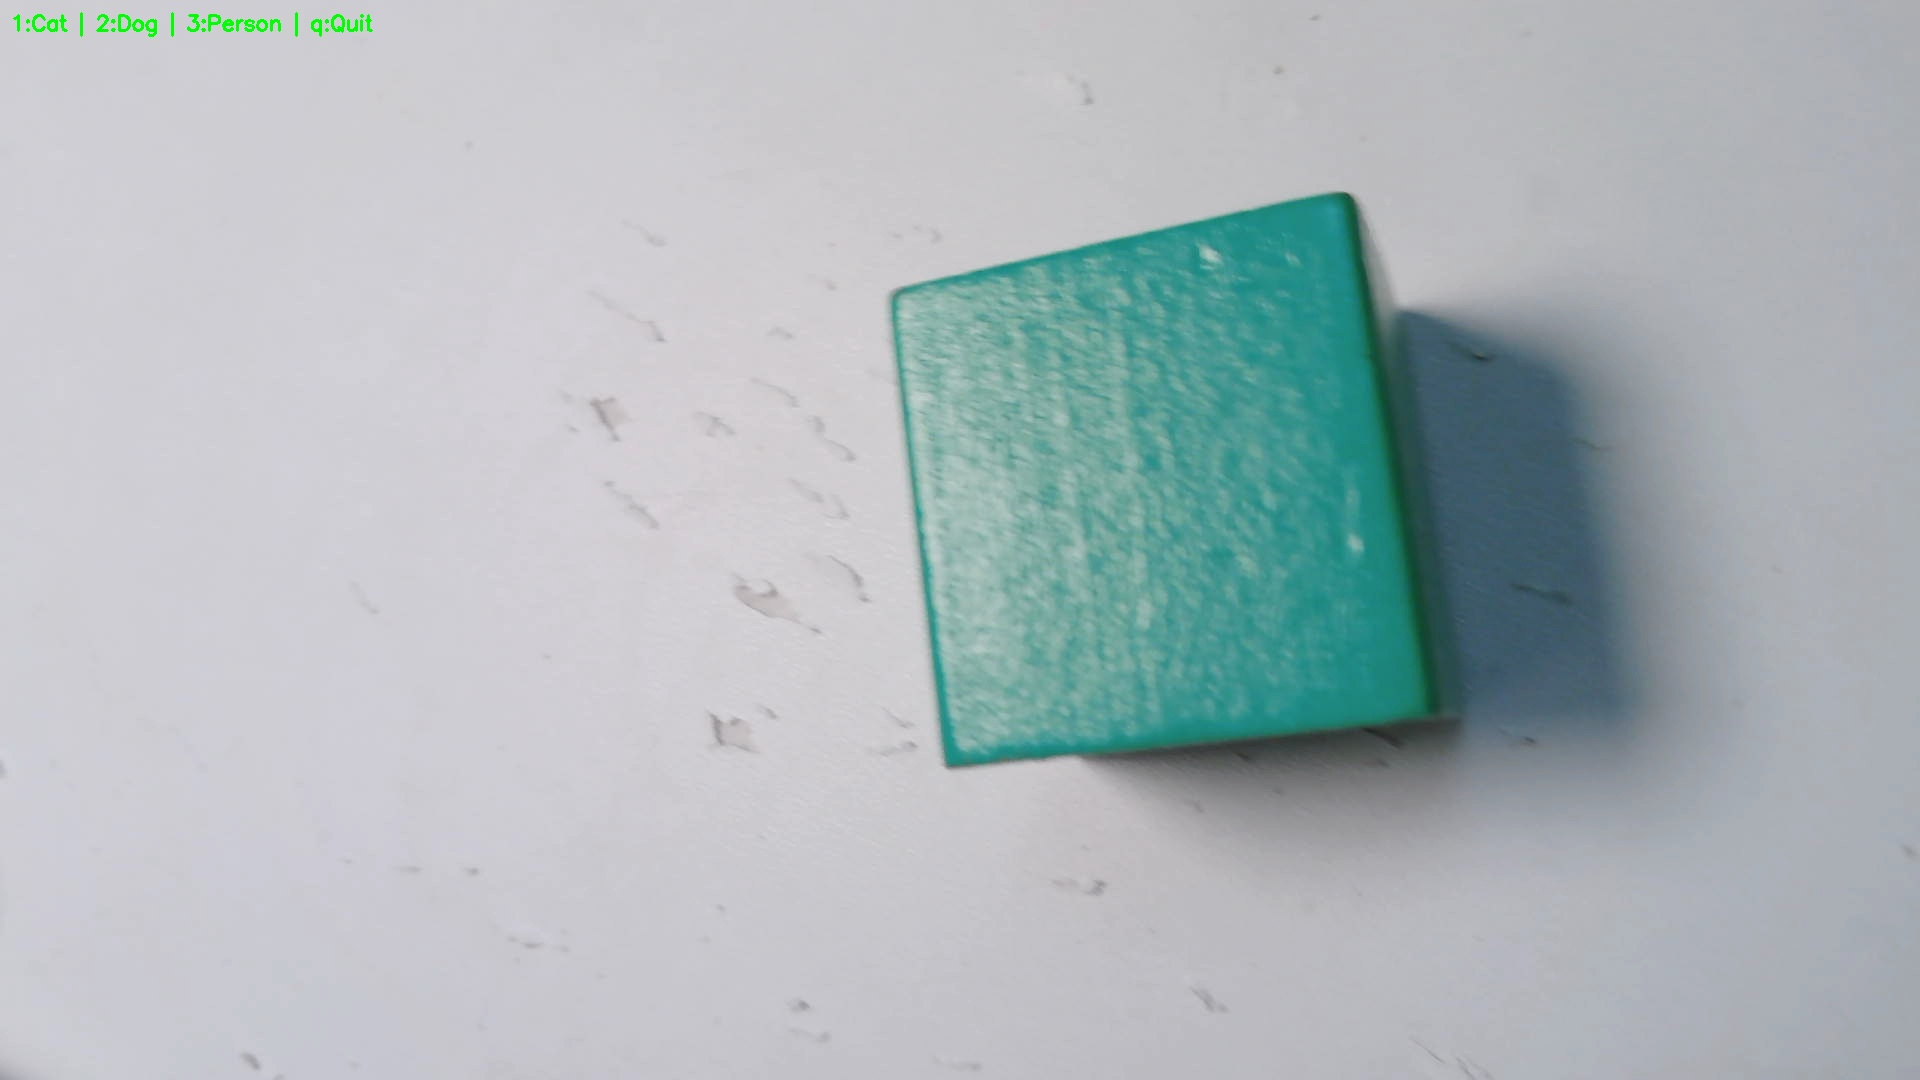green: (887, 194, 1456, 770)
